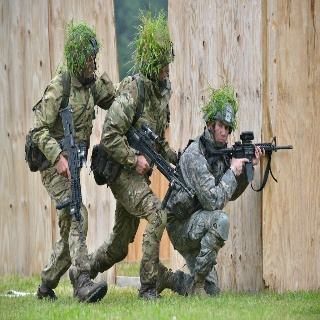rifle: (122, 119, 198, 202), (205, 130, 294, 187), (56, 104, 87, 223)
